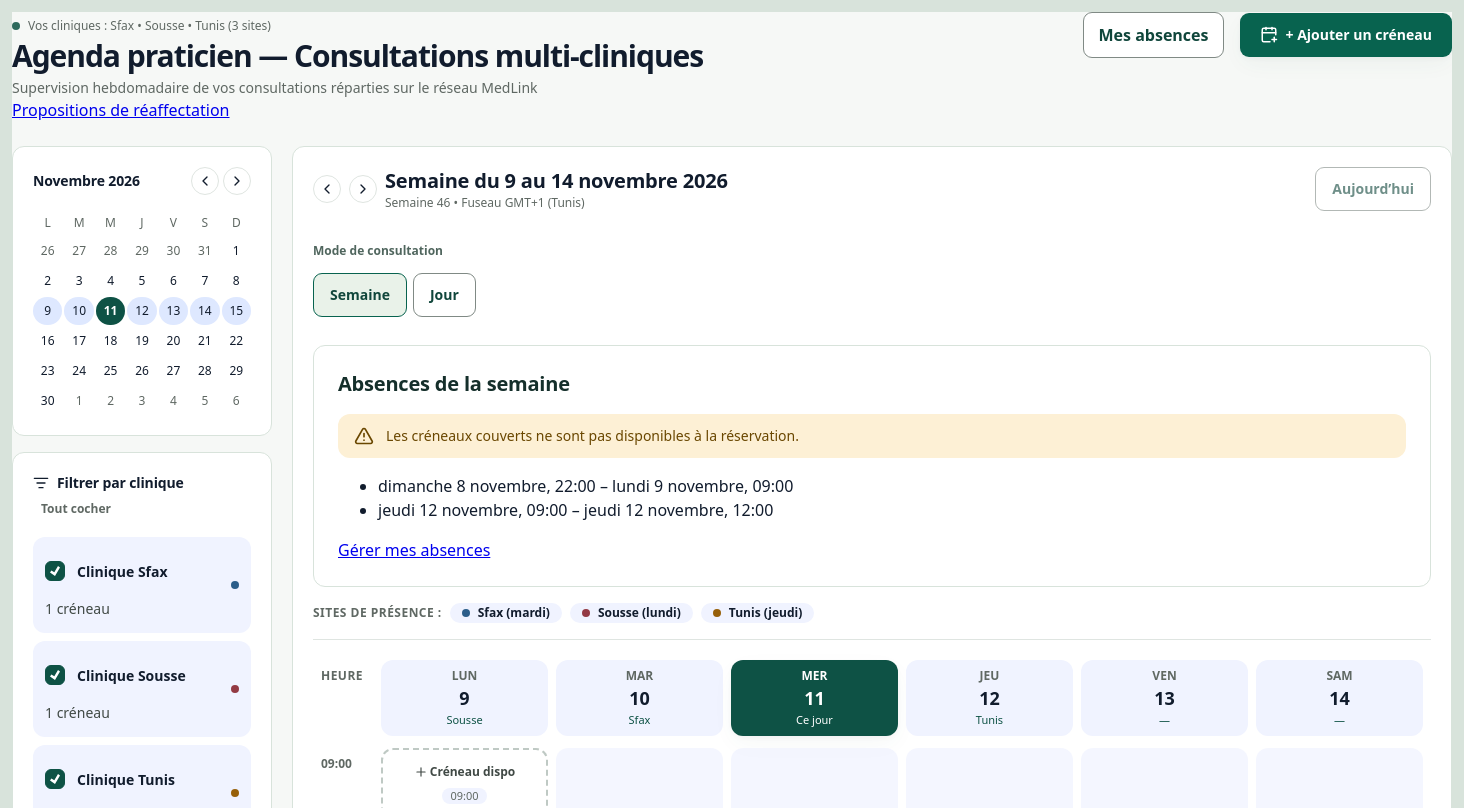
it: US-21: shows overlapping absences in Tunis time, including a period starting before the week
The image size is (1464, 808).
Expected: the list item "dimanche 8 novembre, 22:00 – lundi 9 novembre, 09:00" is shown, [378,475,793,497]
Expected: the list item "jeudi 12 novembre, 09:00 – jeudi 12 novembre, 12:00" is shown, [378,499,773,521]
Click the button named "Semaine suivante" at (363, 189), box [349,175,377,203]
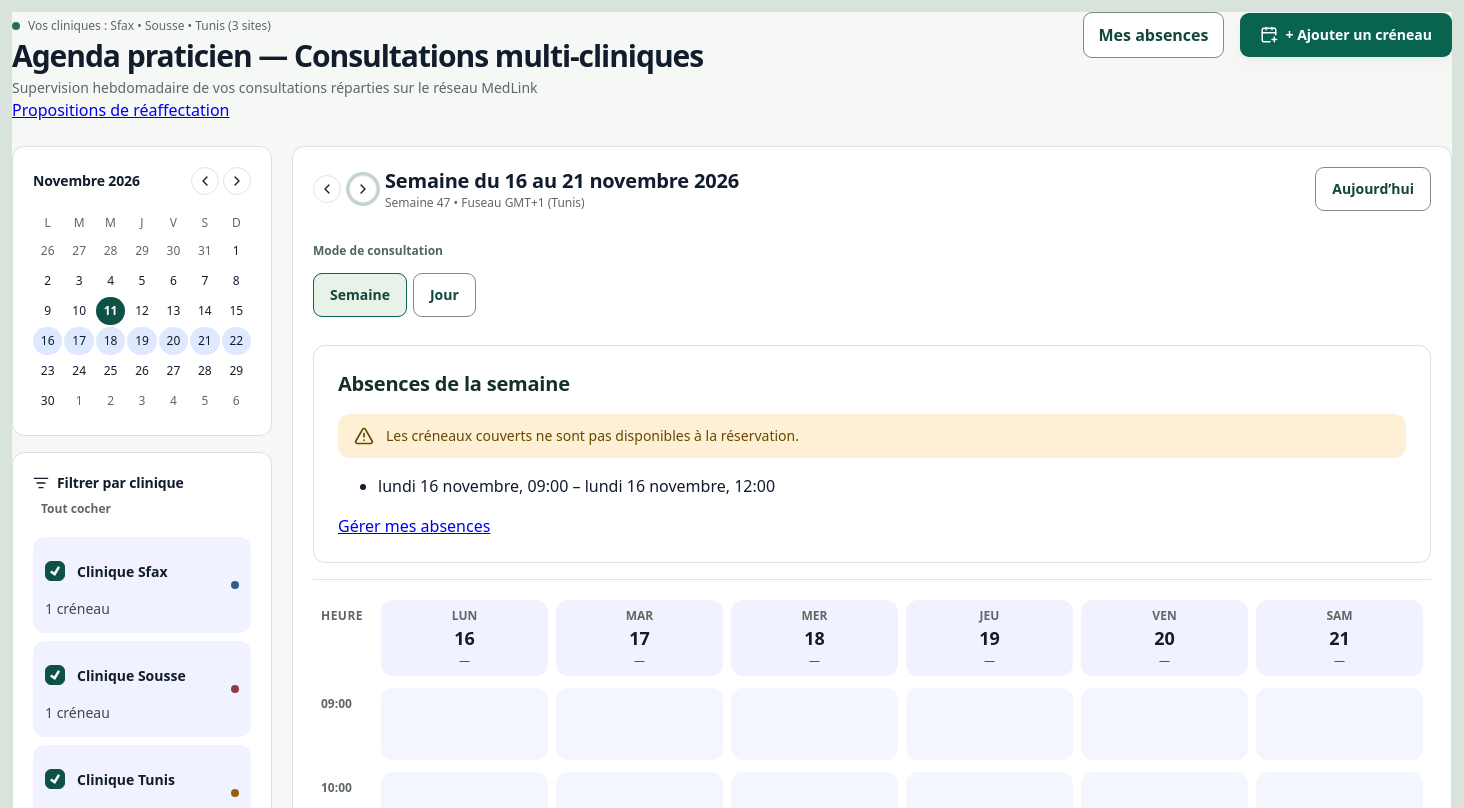
Now the element "Absences de la semaine" shows "lundi 16 novembre, 09:00", box [313,345,1431,563]
Now the element "Absences de la semaine" no longer shows "jeudi 12 novembre", box [313,345,1431,563]
